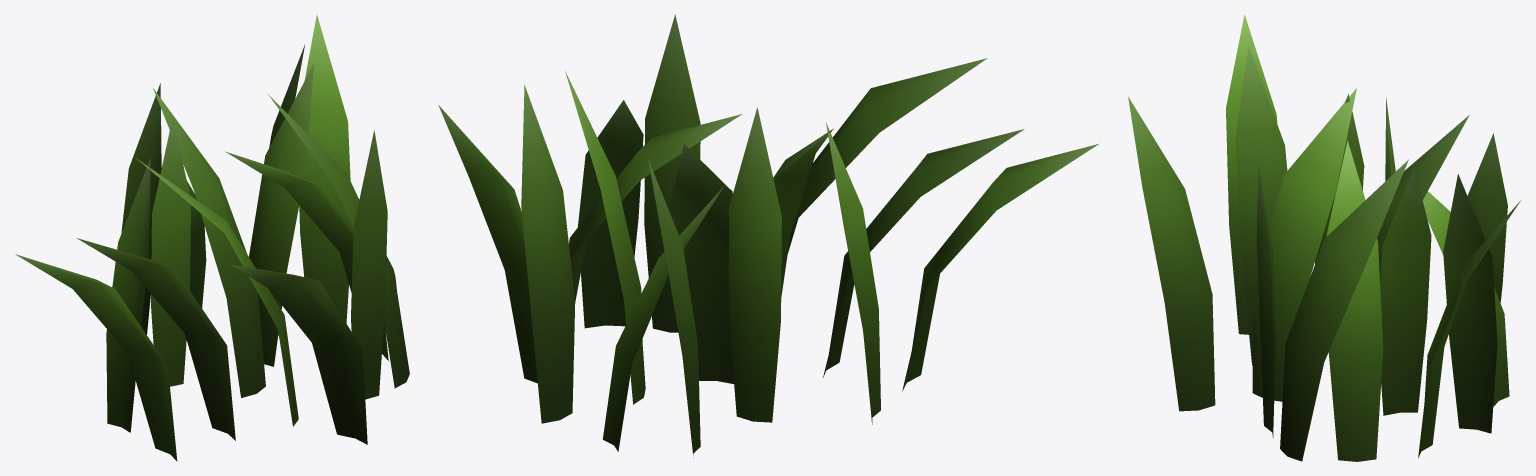
Rendered from Grass_Patch_02.fbx.
The picture shows the model from 3 angles, left to right: view 1: azimuth 30°, elevation 25°; view 2: azimuth 150°, elevation 25°; view 3: azimuth 270°, elevation 25°; orthographic projection. The views are drawn at different scales.
Parts seen in each view (by area): view 1: Grass_Patch_02; view 2: Grass_Patch_02; view 3: Grass_Patch_02.
Part boxes in pixels (x1,y1,x2,y2): Grass_Patch_02: (15,14,409,461); Grass_Patch_02: (438,14,1099,457); Grass_Patch_02: (1128,14,1520,461).
Bounding box in the file's own units: 62.52 × 37.5 × 48.46.
Materials: 1 (1 with a texture image).
